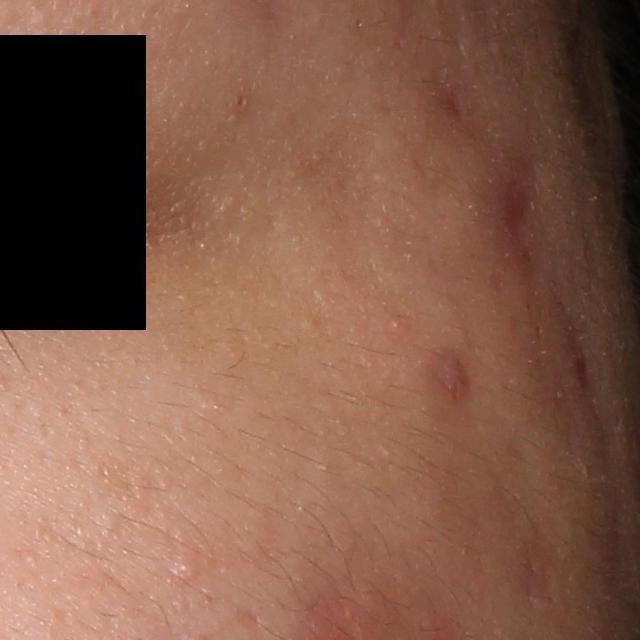comedo: (173, 557, 193, 584), (232, 94, 249, 110)
